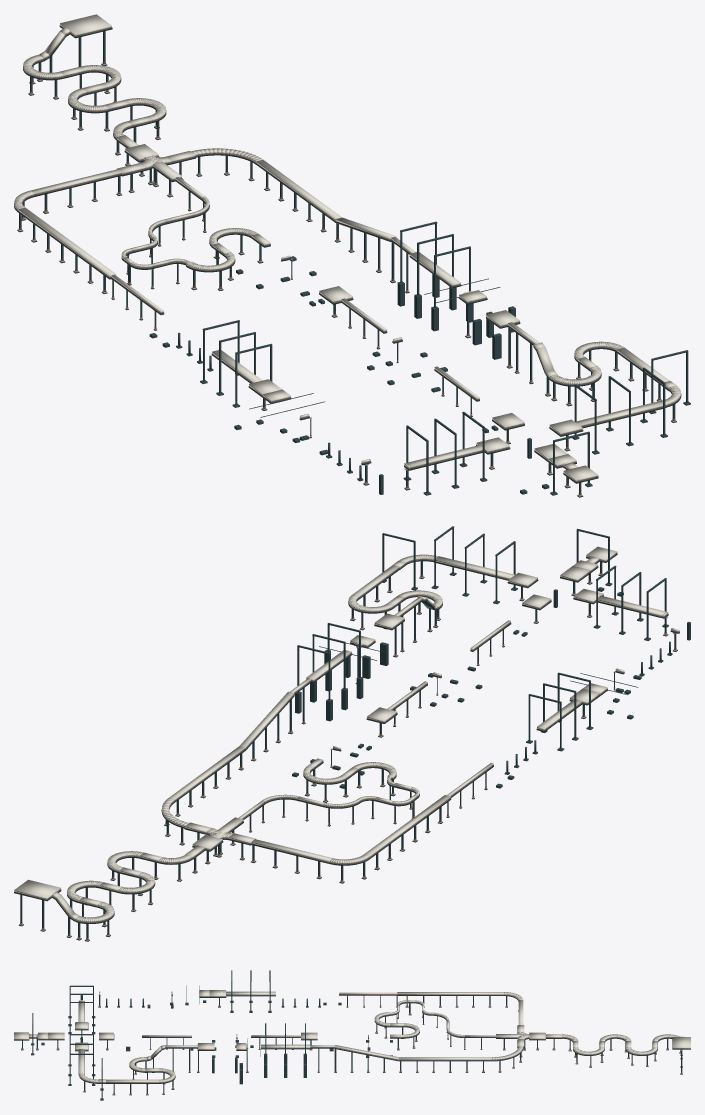
The model's file is three-route-track.glb.
3 views of the same model, one above another, from view 1: azimuth 30°, elevation 25°; view 2: azimuth 150°, elevation 25°; view 3: azimuth 270°, elevation 25° (orthographic). The views are drawn at different scales.
Parts seen in each view (by area): view 1: TrackStatic; view 2: TrackStatic; view 3: TrackStatic.
Boxes of the visible parts, left/top/right/bottom form: TrackStatic: left=14, top=14, right=690, bottom=497; TrackStatic: left=14, top=526, right=690, bottom=941; TrackStatic: left=14, top=970, right=690, bottom=1100.
Size of the model in its own units: 60.11 by 11.69 by 163.
